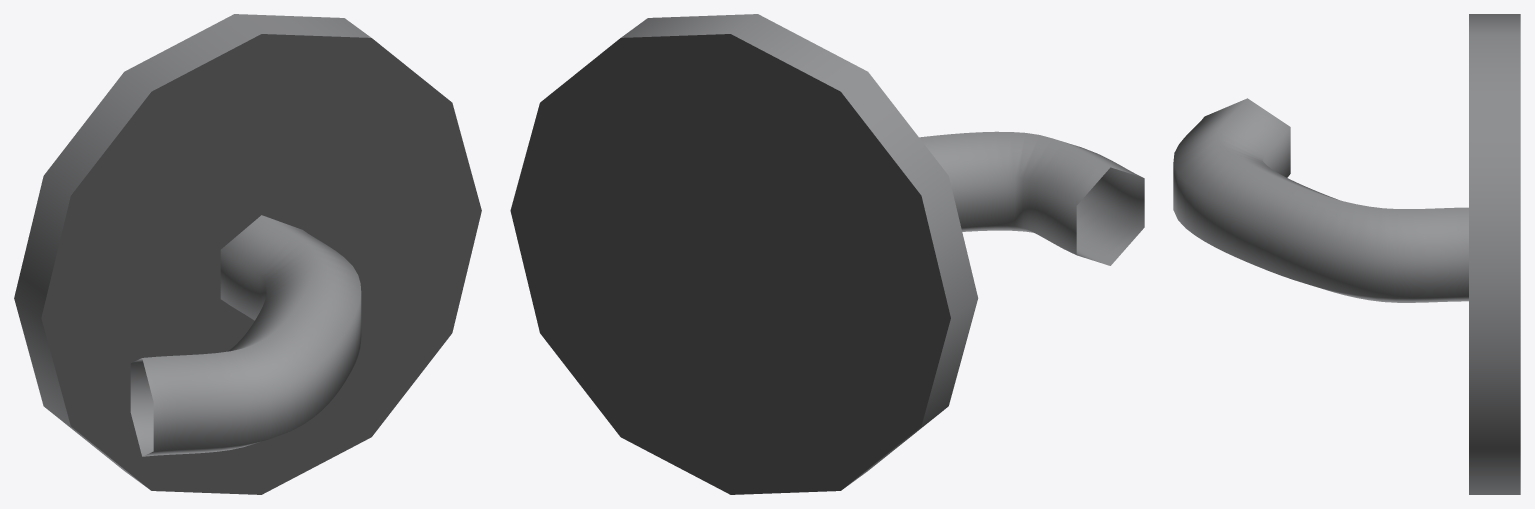
The picture shows the model from 3 angles, left to right: view 1: azimuth 30°, elevation 25°; view 2: azimuth 150°, elevation 25°; view 3: azimuth 270°, elevation 25°; orthographic projection. The views are drawn at different scales.
Bounding box in the file's own units: 0.2318 × 0.2184 × 0.157.
